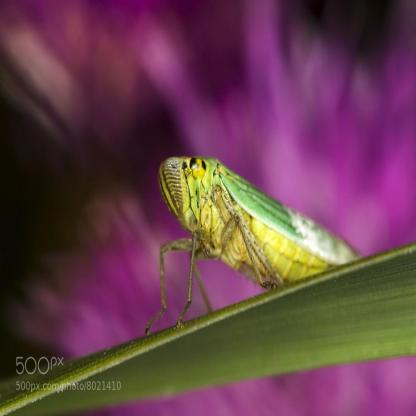Green-Leafhopper: (147, 149, 361, 332)
